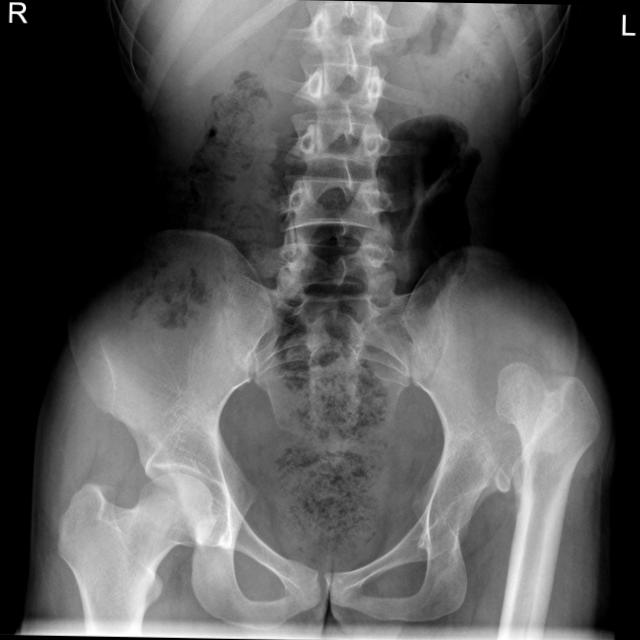left-dislocation: (496, 362, 601, 587)
normal-right: (57, 471, 217, 636)
